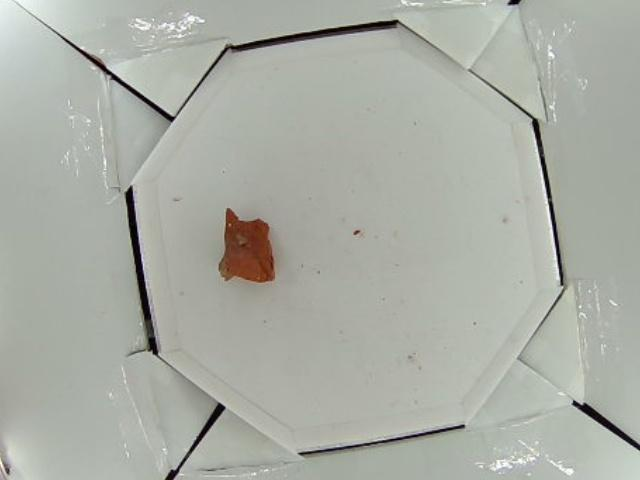Brisk: (217, 210, 274, 283)
